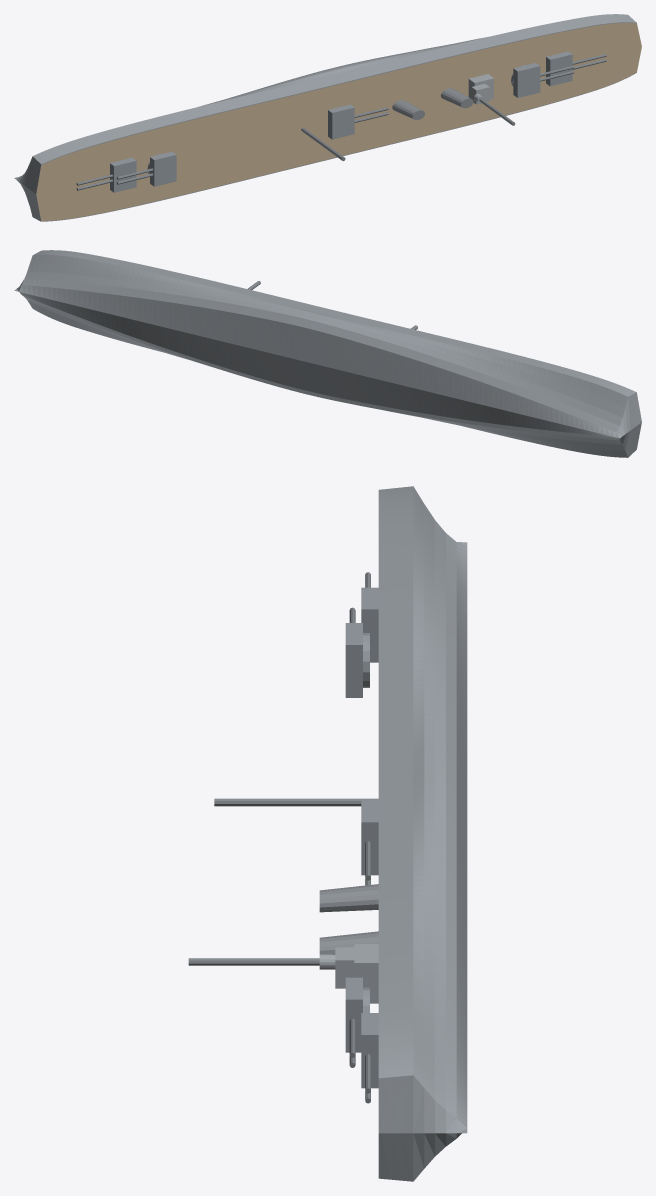
3 views of the same model, one above another, from view 1: azimuth 30°, elevation 25°; view 2: azimuth 150°, elevation 25°; view 3: azimuth 270°, elevation 25° (orthographic). The views are drawn at different scales.
Parts seen in each view (by area): view 1: B64; view 2: B64; view 3: B64.
Part boxes in pixels (box(x1,y1,x2,y2)): B64: box(14, 14, 641, 221); B64: box(14, 250, 641, 457); B64: box(188, 486, 467, 1181).
Size of the model in its own units: 247 by 31.28 by 49.23.
